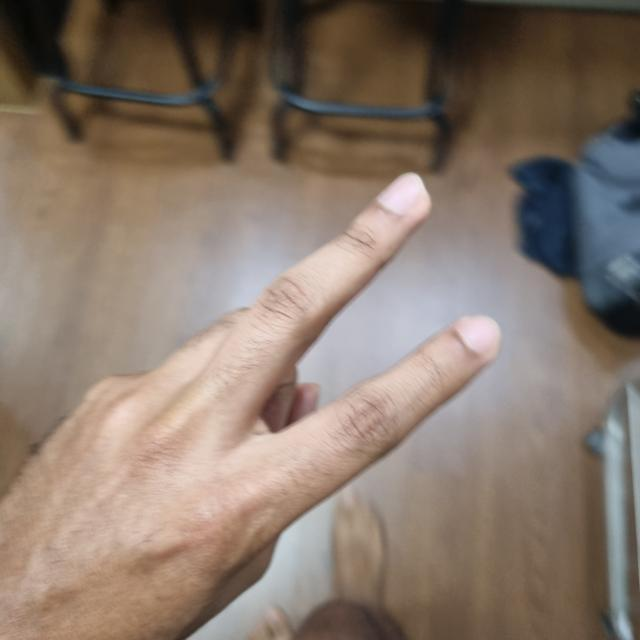Scissors: (0, 177, 496, 639)
